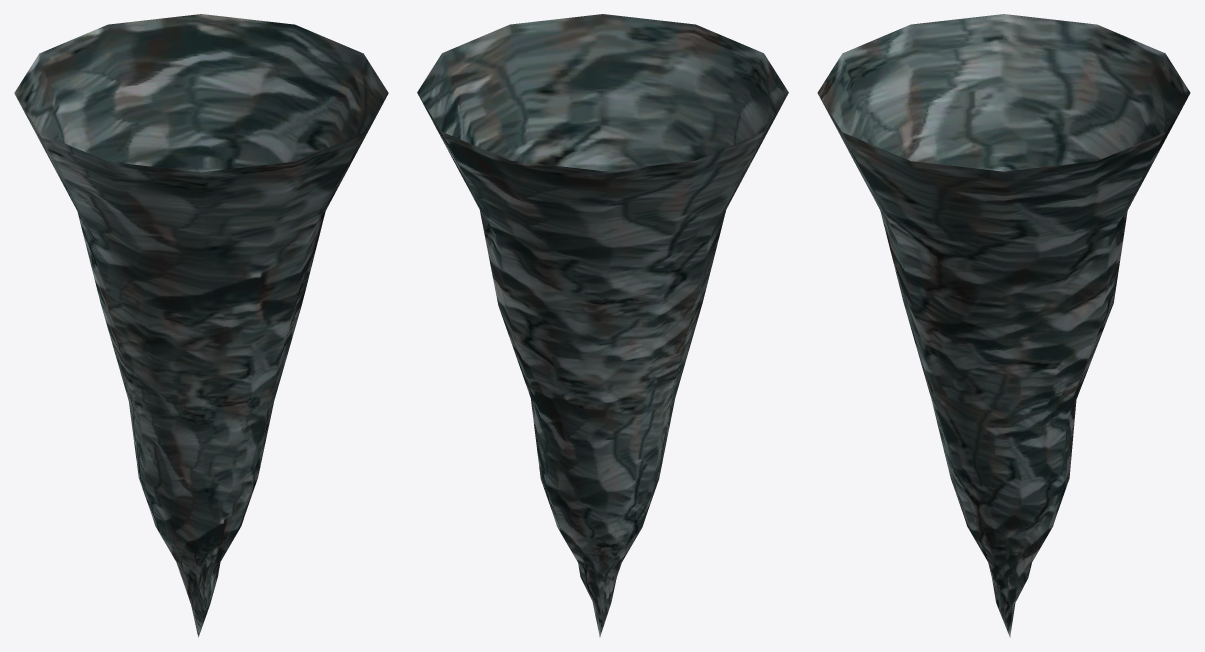
The model's file is INST_SM_STALAGB.fbx.
3 views of the same model, side by side, from view 1: azimuth 30°, elevation 25°; view 2: azimuth 150°, elevation 25°; view 3: azimuth 270°, elevation 25° (orthographic).
Parts seen in each view (by area): view 1: INST_SM_STALAGB; view 2: INST_SM_STALAGB; view 3: INST_SM_STALAGB.
Boxes of the visible parts, x1,y1,x2,y2 form: INST_SM_STALAGB: [14, 14, 388, 637]; INST_SM_STALAGB: [417, 14, 788, 637]; INST_SM_STALAGB: [817, 14, 1190, 637].
Size of the model in its own units: 38970 by 62813 by 38970.
1 material, 1 textured.
